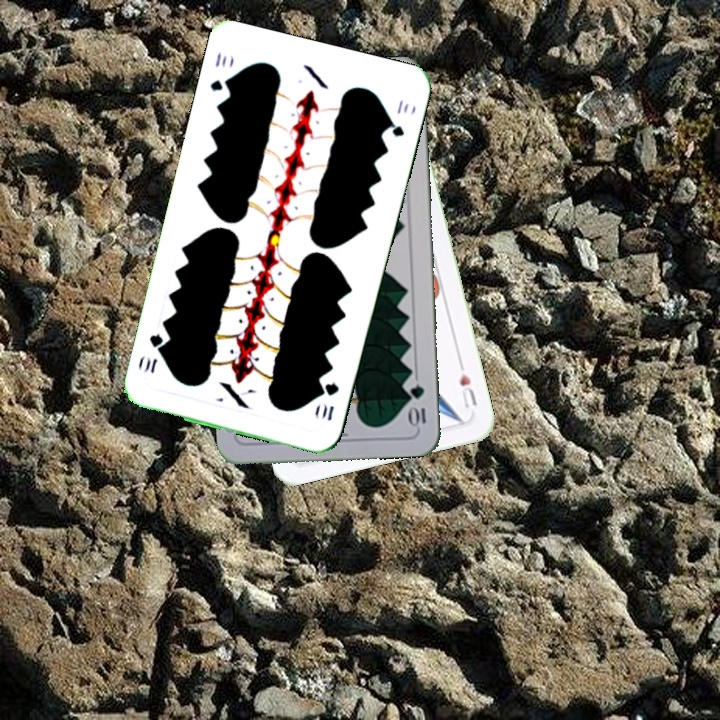G10: (206, 48, 234, 94), (318, 378, 342, 423), (406, 381, 428, 430)
HU: (455, 358, 480, 411)
